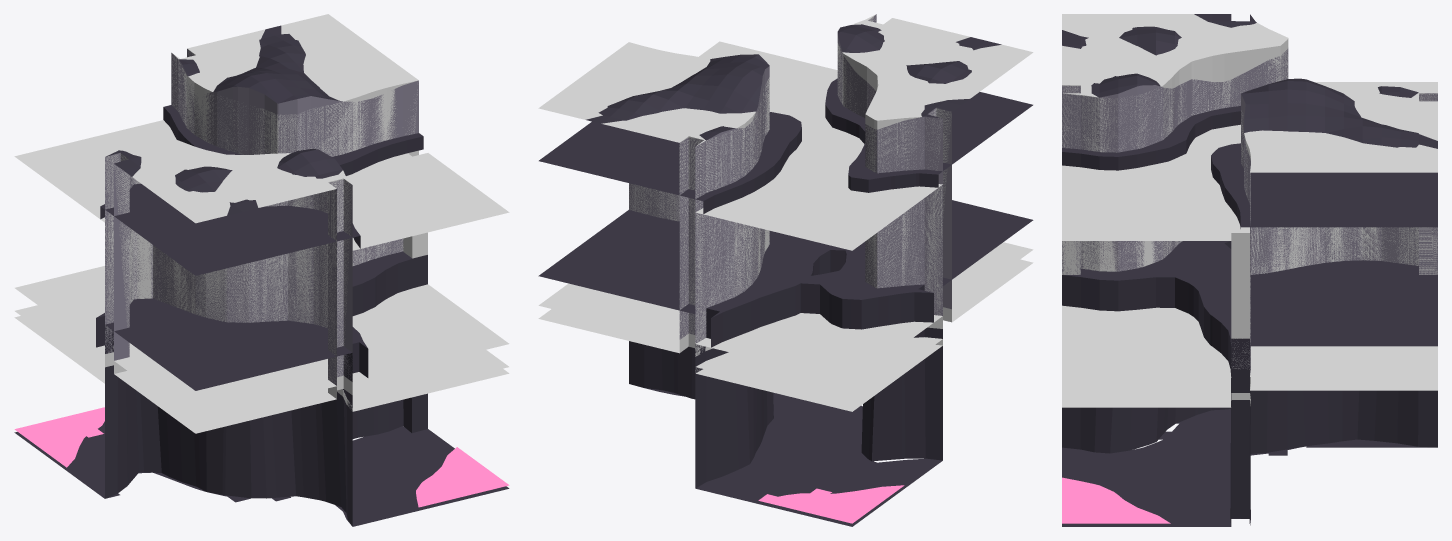
File: Tile_LWLW.fbx
3 renders of one model, left to right at view 1: azimuth 30°, elevation 25°; view 2: azimuth 150°, elevation 25°; view 3: azimuth 270°, elevation 25°, orthographic. The views are drawn at different scales.
Parts seen in each view (by area): view 1: Tile_LWLW, Tile_LWLW_ColWall, Tile_LWLW_ColCrackBlocker, Tile_LWLW_ColGround, Tile_LWLW_ColCrackSurface; view 2: Tile_LWLW, Tile_LWLW_ColCrackBlocker, Tile_LWLW_ColWall, Tile_LWLW_ColGround, Tile_LWLW_ColCrackSurface; view 3: Tile_LWLW, Tile_LWLW_ColCrackBlocker, Tile_LWLW_ColWall, Tile_LWLW_ColGround, Tile_LWLW_ColCrackSurface.
Boxes of the visible parts, left/top/right/bottom form: Tile_LWLW: left=14, top=25, right=509, bottom=526; Tile_LWLW_ColWall: left=105, top=14, right=418, bottom=419; Tile_LWLW_ColCrackBlocker: left=14, top=120, right=509, bottom=381; Tile_LWLW_ColGround: left=105, top=346, right=352, bottom=433; Tile_LWLW_ColCrackSurface: left=14, top=305, right=509, bottom=411; Tile_LWLW: left=538, top=14, right=1033, bottom=526; Tile_LWLW_ColCrackBlocker: left=629, top=41, right=942, bottom=382; Tile_LWLW_ColWall: left=538, top=14, right=1033, bottom=343; Tile_LWLW_ColGround: left=538, top=242, right=1033, bottom=356; Tile_LWLW_ColCrackSurface: left=695, top=337, right=942, bottom=411; Tile_LWLW: left=1062, top=14, right=1437, bottom=526; Tile_LWLW_ColCrackBlocker: left=1062, top=82, right=1437, bottom=376; Tile_LWLW_ColWall: left=1062, top=14, right=1437, bottom=376; Tile_LWLW_ColGround: left=1250, top=346, right=1437, bottom=390; Tile_LWLW_ColCrackSurface: left=1062, top=377, right=1250, bottom=407.
Size of the model in its own units: 5 by 5.5 by 5.
